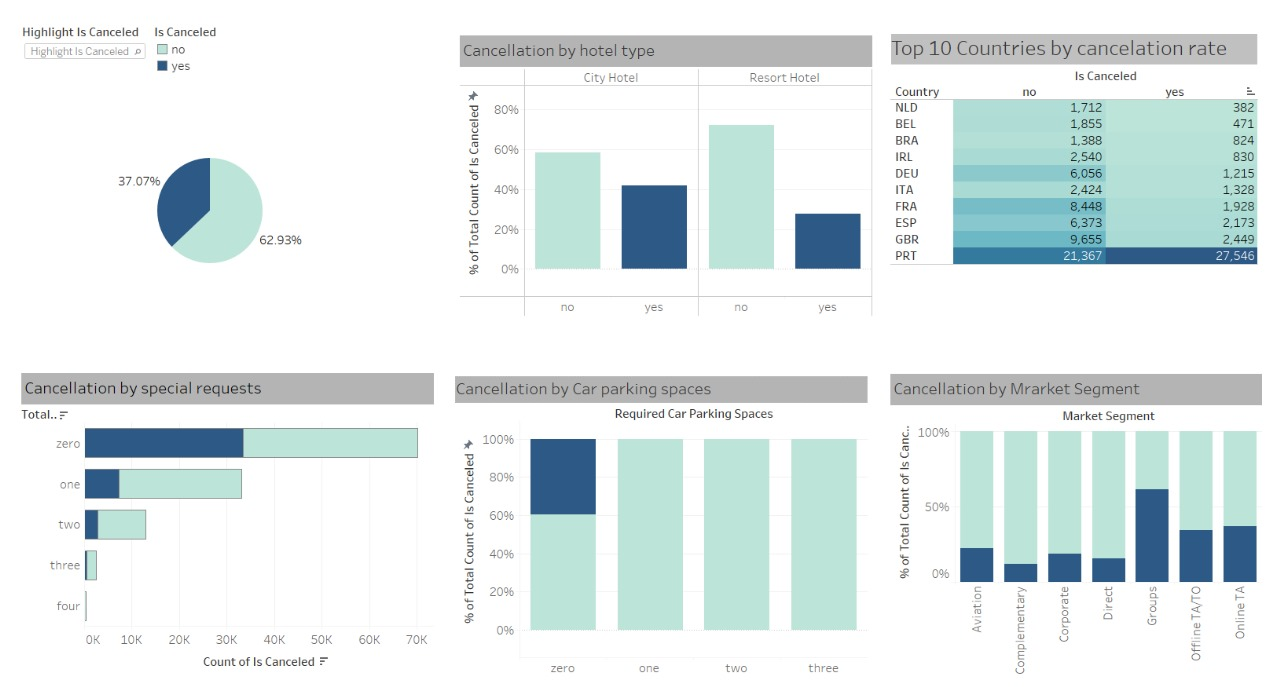

This screenshot's page, from the dashboard's own definition file:
{"tool":"tableau","page":{"name":"Dashboard 3","canvas":[1600,850],"ordinal":0},"visuals":[{"type":"highlighter","title":"Sheet 18","param":"[federated.1jiogfj0muboob11uao2x128atke].[none:is_canceled:nk]","box":[8,8,168,834]},{"type":"legend","title":"Sheet 20","param":"[federated.1jiogfj0muboob11uao2x128atke].[none:is_canceled:nk]","box":[176,8,168,834]},{"type":"worksheet","title":"Sheet 18","mark":"Square","rows":["country"],"cols":["is_canceled"],"box":[1113,20,476,337]},{"type":"worksheet","title":"Sheet 19","mark":"Automatic","cols":["hotel","is_canceled"],"box":[565,23,533,366]},{"type":"worksheet","title":"Sheet 1","mark":"Pie","box":[10,112,482,276]},{"type":"worksheet","title":"Sheet 20","mark":"Automatic","rows":["total_of_special_requests"],"cols":["is_canceled"],"box":[7,453,533,393]},{"type":"worksheet","title":"Sheet 11","mark":"Automatic","cols":["market_segment"],"box":[1113,454,481,393]},{"type":"worksheet","title":"Sheet 15","mark":"Automatic","cols":["required_car_parking_spaces"],"box":[559,457,533,391]}]}

Visuals, with their boxes in screenshot pixels (x1, y1, x2, y2), scaled from the page's 1600x850 canvas onto the 1280x687 screenshot:
"Sheet 18" highlighter: box=[6, 6, 141, 681]
"Sheet 20" legend: box=[141, 6, 275, 681]
"Sheet 18" worksheet (Square marks): box=[890, 16, 1271, 289]
"Sheet 19" worksheet: box=[452, 19, 878, 314]
"Sheet 1" worksheet (Pie marks): box=[8, 91, 394, 314]
"Sheet 20" worksheet: box=[6, 366, 432, 684]
"Sheet 11" worksheet: box=[890, 367, 1275, 685]
"Sheet 15" worksheet: box=[447, 369, 874, 685]
